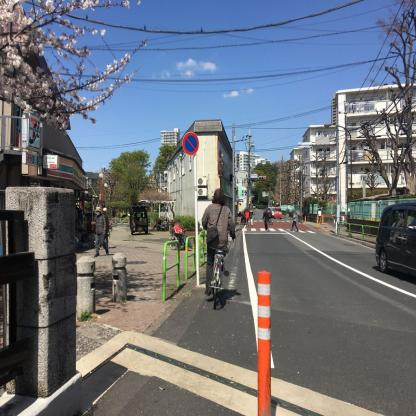Someiyoshino: (0, 0, 156, 154)
